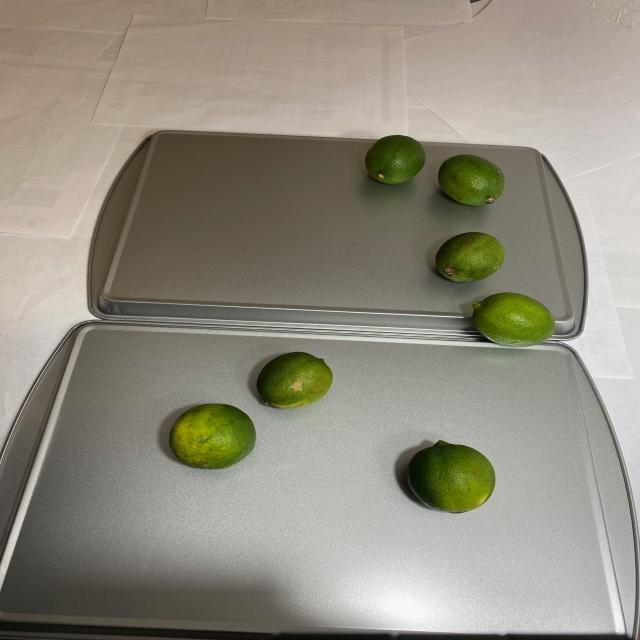lemon: (366, 129, 558, 351), (157, 348, 336, 471), (399, 435, 496, 520)
